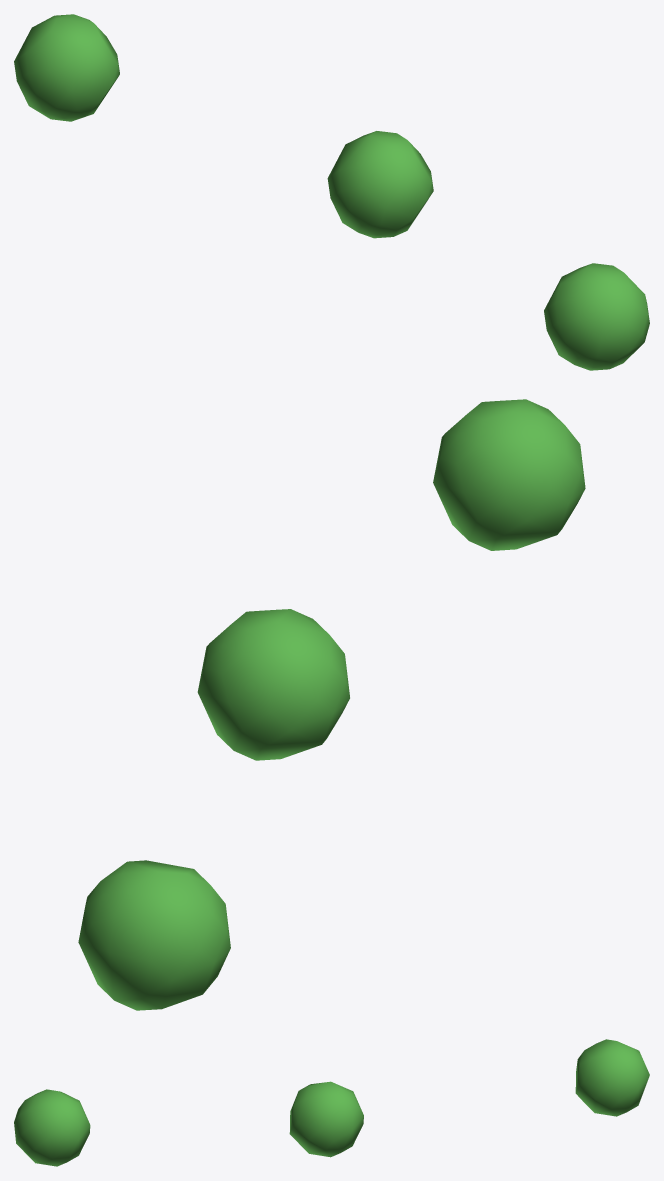
The model's file is linfatico-submandibular-nodes-r.glb.
3 renders of one model, top to bottom at view 1: azimuth 30°, elevation 25°; view 2: azimuth 150°, elevation 25°; view 3: azimuth 270°, elevation 25°, orthographic. The views are drawn at different scales.
Visible parts, largest first — view 1: Submandibular nodes.r; view 2: Submandibular nodes.r; view 3: Submandibular nodes.r.
Boxes of the visible parts, x1,y1,x2,y2 form: Submandibular nodes.r: (14,14,649,370); Submandibular nodes.r: (78,399,585,1010); Submandibular nodes.r: (14,1039,649,1166).
Size of the model in its own units: 0.0065 by 0.00255 by 0.0212.
